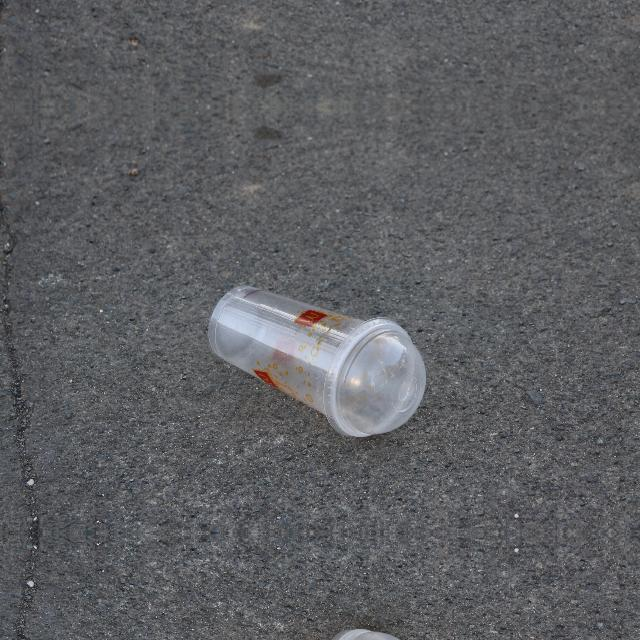Plastic: (206, 282, 428, 440), (206, 625, 428, 640)
